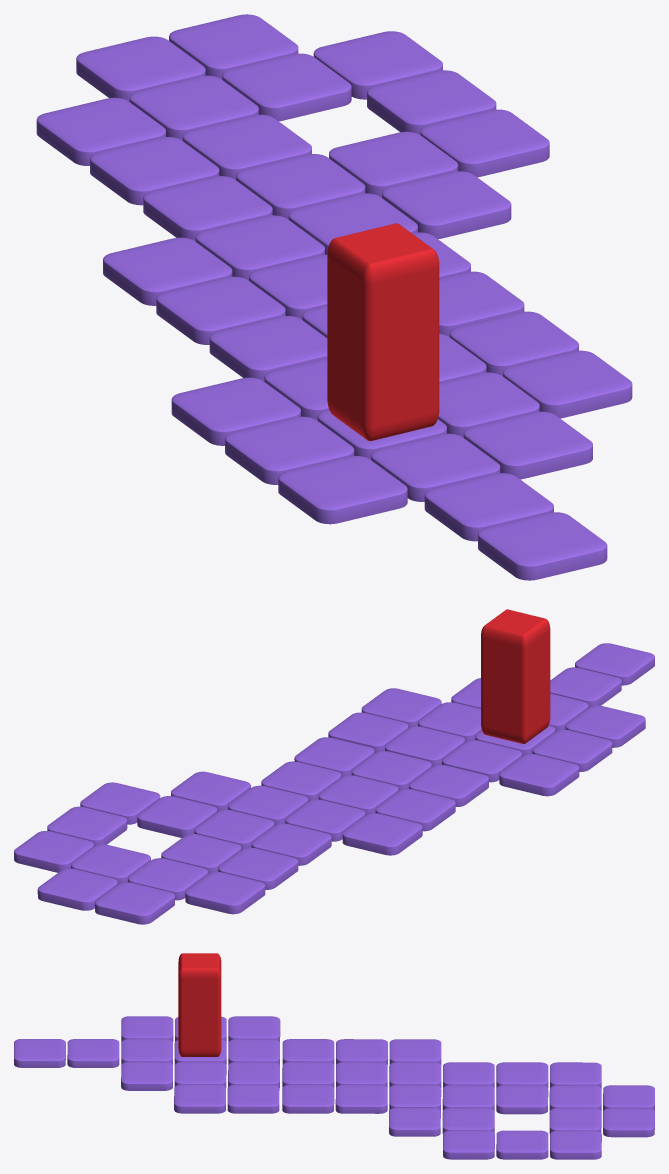
The model's file is level0.glb.
3 views of the same model, one above another, from view 1: azimuth 30°, elevation 25°; view 2: azimuth 150°, elevation 25°; view 3: azimuth 270°, elevation 25° (orthographic). The views are drawn at different scales.
Parts seen in each view (by area): view 1: block, platform.036, platform.028, platform.021, platform.017, platform.031, platform.034, platform.019, platform.035, platform.012, platform.003, platform.005 (+24 smaller); view 2: block, platform.005, platform.029, platform.014, platform.022, platform.023, platform.016, platform.020, platform.013, platform.012, platform.027, platform.028 (+25 smaller); view 3: block, platform.018, platform.033, platform.007, platform.006, platform.009, platform.020, platform.034, platform.019, platform.021, platform.023, platform.031 (+24 smaller).
Part boxes in pixels (bbox=[...]): block: bbox=[327, 223, 439, 441]; platform.036: bbox=[478, 512, 607, 580]; platform.028: bbox=[278, 456, 407, 524]; platform.021: bbox=[382, 171, 511, 239]; platform.017: bbox=[222, 53, 351, 121]; platform.031: bbox=[463, 411, 592, 479]; platform.034: bbox=[503, 350, 632, 418]; platform.019: bbox=[420, 109, 549, 177]; platform.035: bbox=[424, 473, 553, 541]; platform.012: bbox=[90, 137, 219, 205]; platform.003: bbox=[156, 276, 285, 344]; platform.005: bbox=[103, 237, 232, 305]; block: bbox=[481, 609, 550, 743]; platform.005: bbox=[342, 813, 422, 855]; platform.029: bbox=[499, 754, 579, 796]; platform.014: bbox=[185, 872, 265, 914]; platform.022: bbox=[95, 882, 174, 924]; platform.023: bbox=[37, 868, 117, 910]; platform.016: bbox=[137, 796, 217, 837]; platform.020: bbox=[14, 831, 93, 872]; platform.013: bbox=[251, 823, 331, 865]; platform.012: bbox=[218, 847, 298, 889]; platform.027: bbox=[532, 729, 612, 771]; platform.028: bbox=[565, 705, 645, 747]; block: bbox=[178, 953, 221, 1056]; platform.018: bbox=[496, 1130, 548, 1159]; platform.033: bbox=[227, 1084, 279, 1113]; platform.007: bbox=[282, 1084, 334, 1113]; platform.006: bbox=[335, 1084, 387, 1113]; platform.009: bbox=[496, 1085, 548, 1114]; platform.020: bbox=[550, 1130, 601, 1159]; platform.034: bbox=[174, 1084, 225, 1113]; platform.019: bbox=[443, 1130, 494, 1159]; platform.021: bbox=[389, 1107, 440, 1136]; platform.023: bbox=[603, 1108, 654, 1137]; platform.031: bbox=[121, 1061, 172, 1090].
Size of what is drawn, in the model's own units: 14.95 by 5.02 by 29.96.
